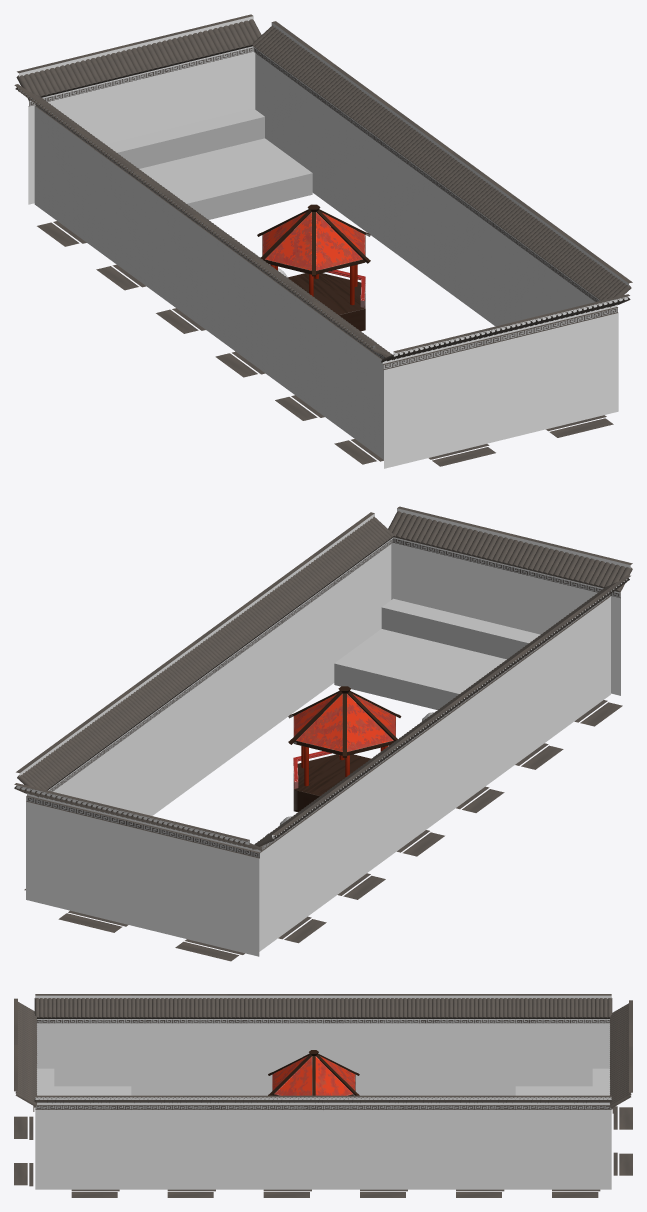
The model's file is Greybox_1.5.fbx.
3 renders of one model, top to bottom at view 1: azimuth 30°, elevation 25°; view 2: azimuth 150°, elevation 25°; view 3: azimuth 270°, elevation 25°, orthographic. The views are drawn at different scales.
Parts seen in each view (by area): view 1: ChineseWall17, pCube23, ChinesePavilion, Area_02; view 2: ChineseWall17, pCube22, ChinesePavilion, Area_01; view 3: ChineseWall17, ChinesePavilion, pCube22, pCube23, Area_01, Area_02.
Boxes of the visible parts, x1,y1,x2,y2 form: ChineseWall17: (14, 14, 632, 468); pCube23: (139, 138, 312, 219); ChinesePavilion: (257, 204, 370, 331); Area_02: (105, 108, 264, 168); ChineseWall17: (14, 506, 632, 961); pCube22: (334, 629, 506, 709); ChinesePavilion: (288, 686, 401, 812); Area_01: (381, 598, 540, 659); ChineseWall17: (14, 994, 632, 1197); ChinesePavilion: (268, 1050, 359, 1095); pCube22: (54, 1086, 131, 1095); pCube23: (515, 1086, 592, 1095); Area_01: (37, 1068, 54, 1095); Area_02: (592, 1068, 609, 1095).
Size of the model in its own units: 25.41 by 12.09 by 64.41.
